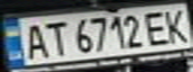1: (106, 12, 127, 51)
2: (121, 11, 145, 50)
6: (69, 16, 93, 53)
7: (90, 14, 109, 52)
A: (18, 20, 51, 60)
E: (142, 8, 172, 46)
K: (160, 6, 193, 44)
T: (39, 18, 69, 57)
